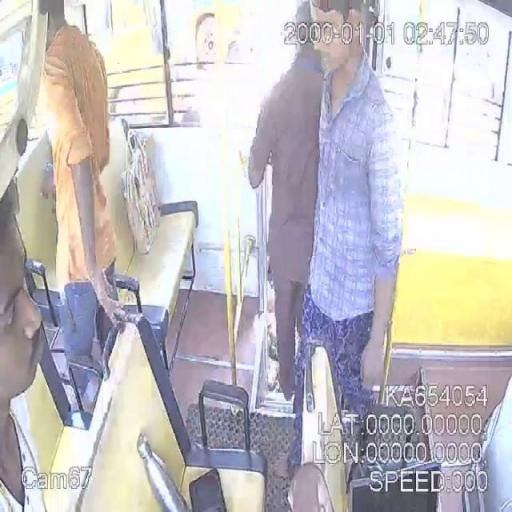persona: (292, 0, 404, 470), (298, 0, 404, 424), (40, 21, 128, 411), (246, 2, 328, 404), (0, 176, 48, 510)
